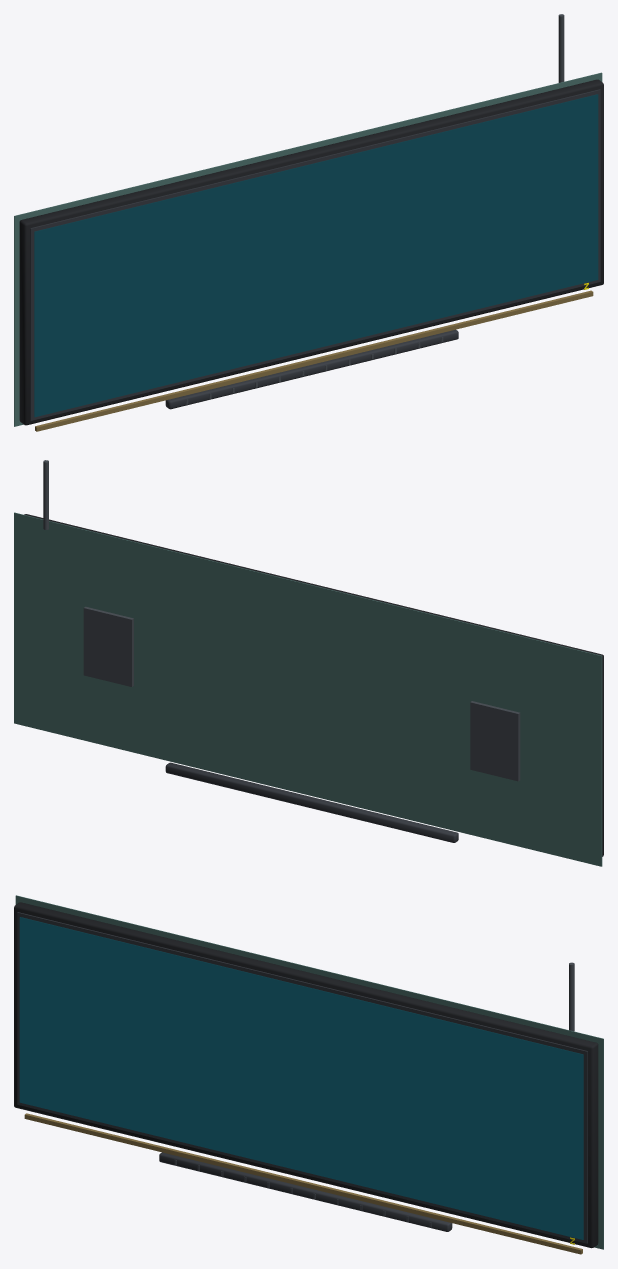
File: wall_screen_wide.glb
3 views of the same model, one above another, from view 1: azimuth 30°, elevation 25°; view 2: azimuth 150°, elevation 25°; view 3: azimuth 330°, elevation 25° (orthographic).
Parts seen in each view (by area): view 1: Screen, Body; view 2: Body; view 3: Screen, Body.
Boxes of the visible parts, left/top/right/bottom form: Screen: left=34, top=94, right=598, bottom=417; Body: left=14, top=14, right=603, bottom=431; Body: left=14, top=460, right=603, bottom=866; Screen: left=19, top=917, right=583, bottom=1239; Body: left=14, top=895, right=603, bottom=1254.
Size of the model in its own units: 3.65 by 1.71 by 0.1655.
